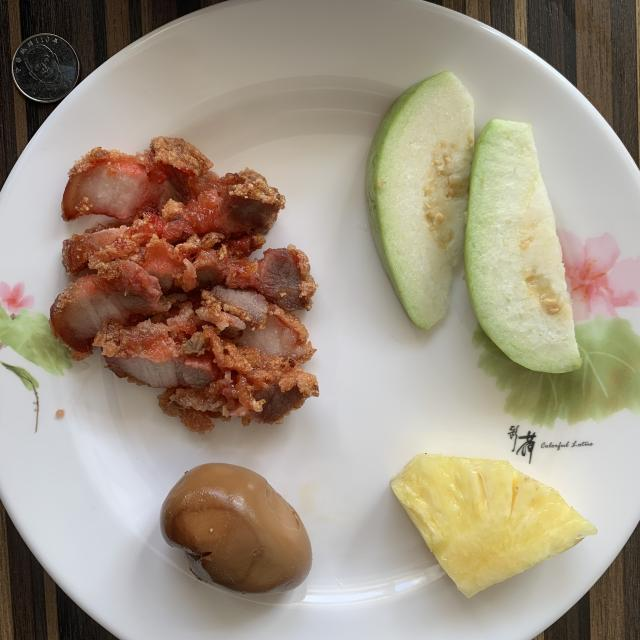coin: (12, 34, 79, 102)
guava -sliced-: (366, 71, 581, 372)
pineapple: (391, 454, 596, 598)
red grilled pork: (50, 136, 319, 432)
soy egg: (160, 462, 312, 592)
